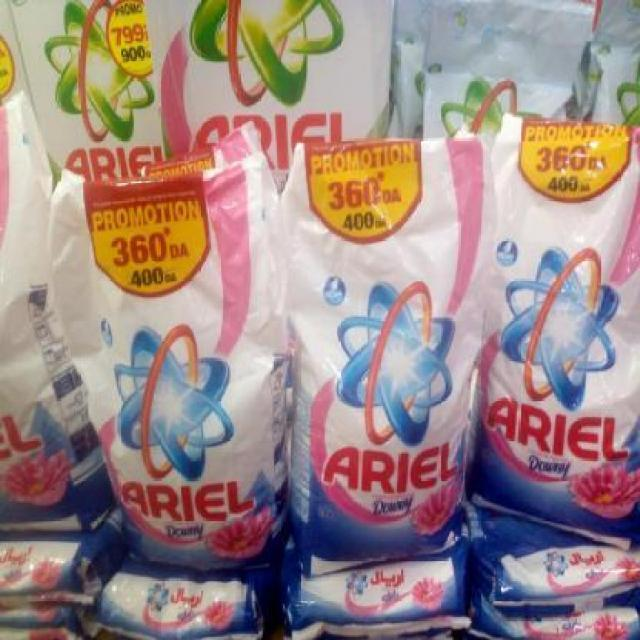Detergent: (284, 137, 472, 551), (95, 167, 283, 564), (472, 104, 640, 535), (0, 101, 95, 541), (192, 0, 390, 148), (22, 0, 165, 177), (487, 531, 640, 639), (0, 503, 128, 619), (293, 561, 461, 639), (101, 566, 269, 640)
